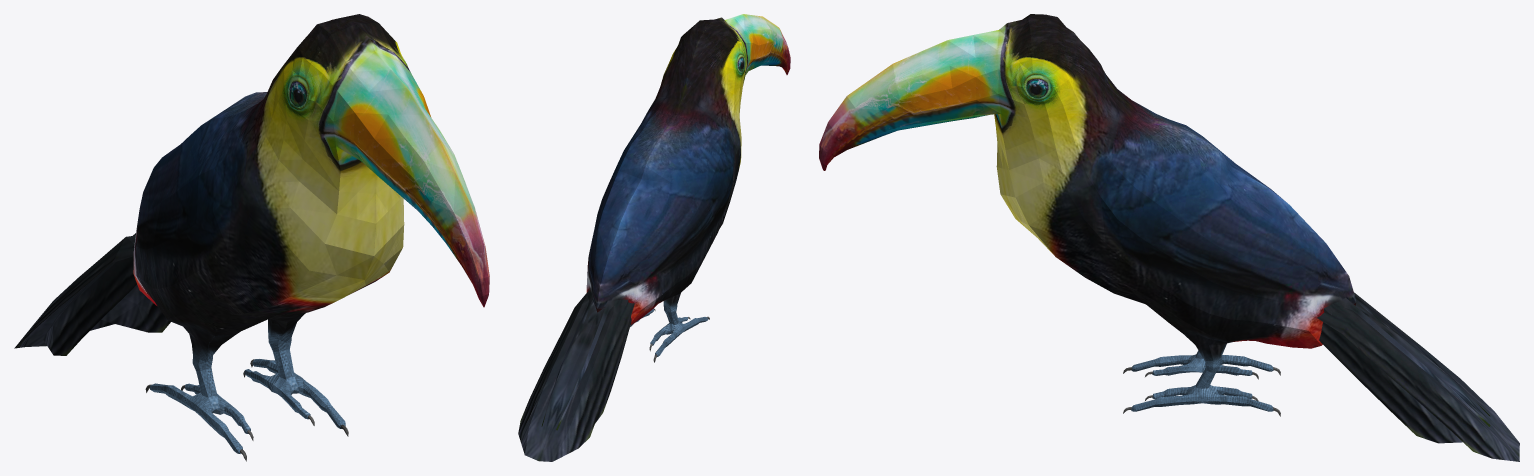
Rendered from toucan.obj.
The picture shows the model from 3 angles, left to right: view 1: azimuth 30°, elevation 25°; view 2: azimuth 150°, elevation 25°; view 3: azimuth 270°, elevation 25°; orthographic projection. The views are drawn at different scales.
Parts seen in each view (by area): view 1: toucan; view 2: toucan; view 3: toucan.
Boxes of the visible parts, left/top/right/bottom form: toucan: left=14, top=14, right=489, bottom=461; toucan: left=518, top=14, right=790, bottom=461; toucan: left=819, top=14, right=1519, bottom=461.
Size of the model in its own units: 11.21 by 32.34 by 46.9.
1 material, 1 textured.
